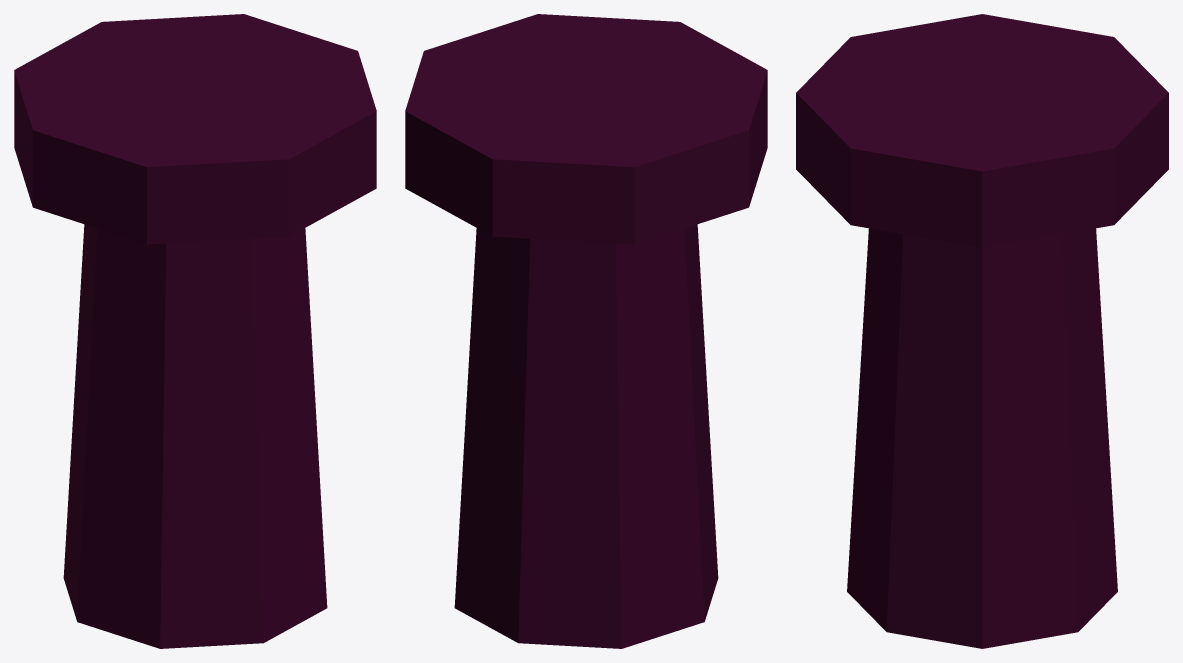
Rendered from mooring.glb.
3 views of the same model, side by side, from view 1: azimuth 30°, elevation 25°; view 2: azimuth 150°, elevation 25°; view 3: azimuth 270°, elevation 25° (orthographic).
Visible parts, largest first — view 1: mooring; view 2: mooring; view 3: mooring.
Part boxes in pixels (<box>): mooring: <box>14,14,376,648</box>; mooring: <box>405,14,767,648</box>; mooring: <box>796,14,1168,648</box>.
Bounding box in the file's own units: 0.44 × 0.65 × 0.44.
